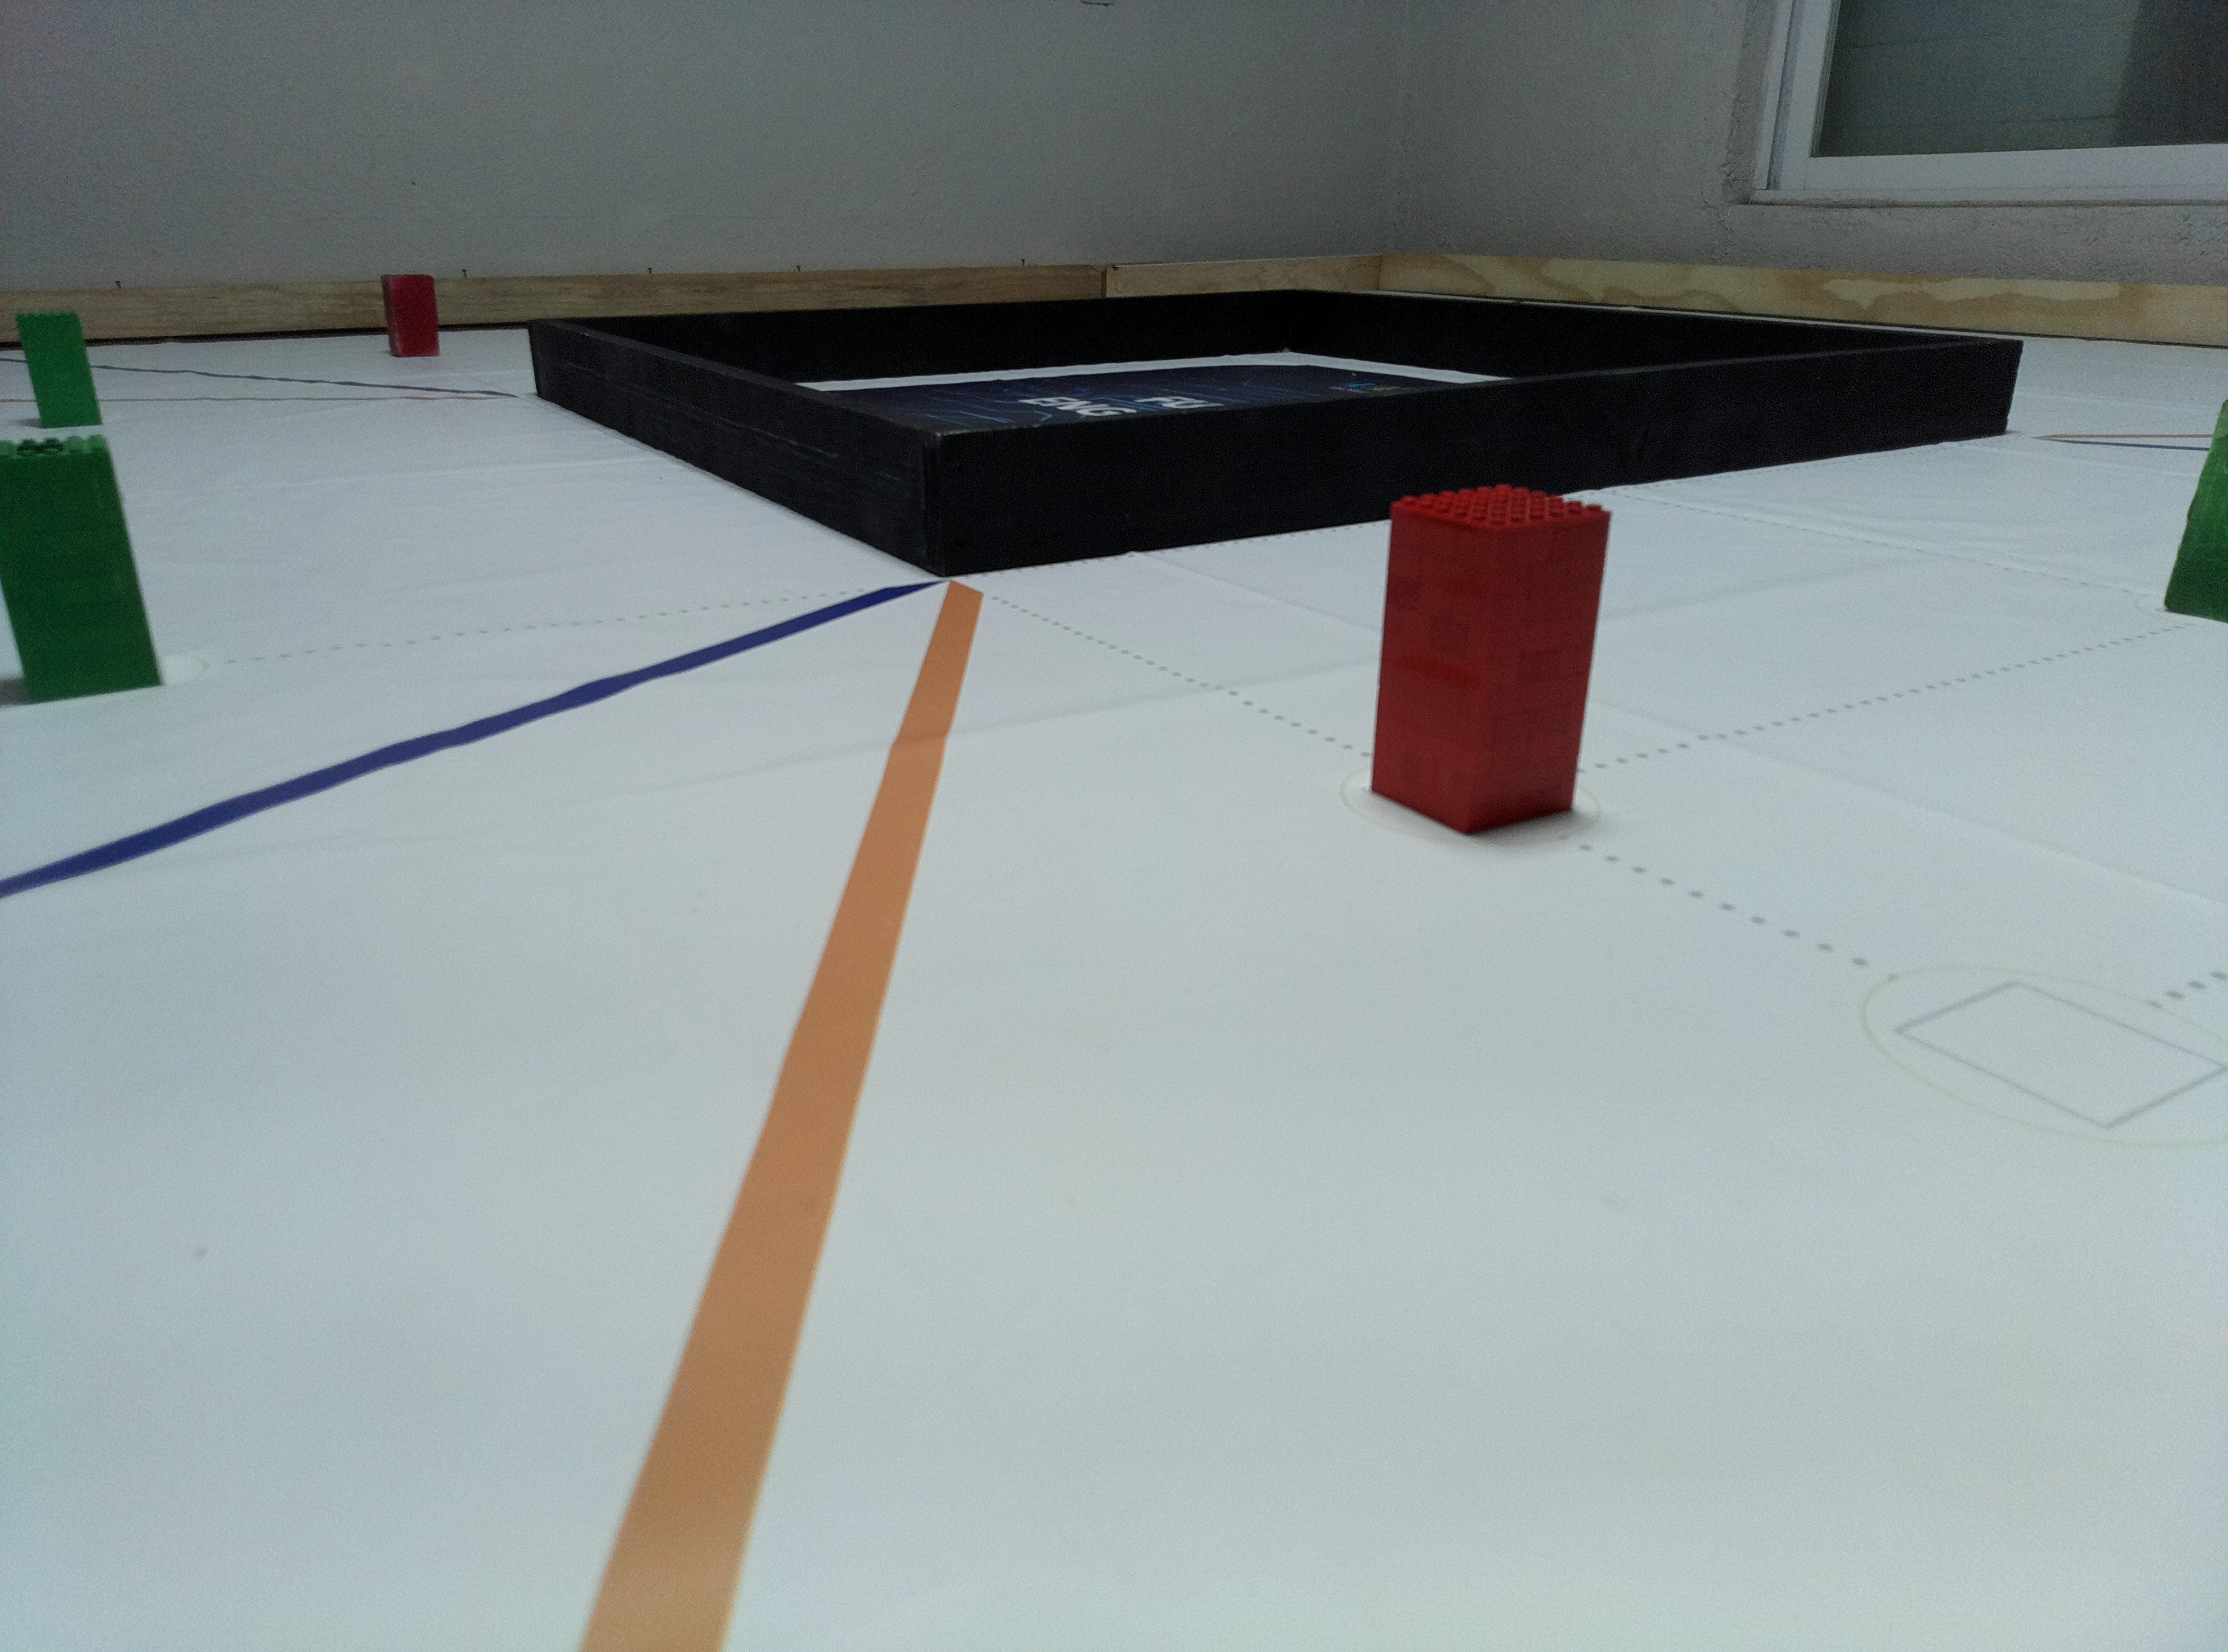greenbox: (0, 432, 177, 696), (2162, 389, 2226, 644), (14, 311, 106, 427)
redbox: (1369, 484, 1614, 838), (380, 272, 442, 357)
